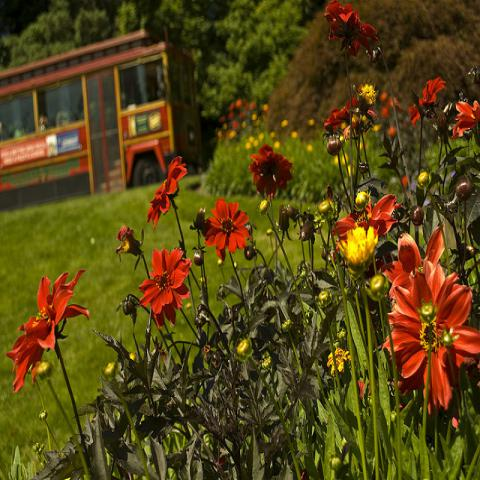bus: (3, 28, 175, 208)
